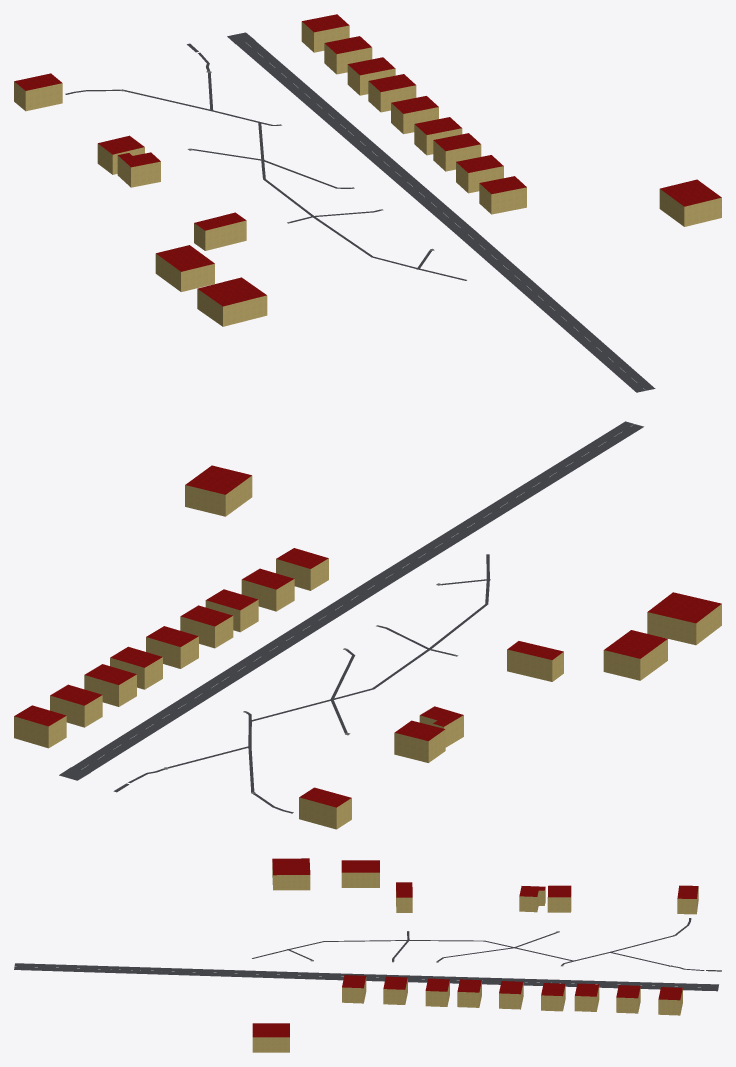
Rendered from district_-1_-1.glb.
3 renders of one model, top to bottom at view 1: azimuth 30°, elevation 25°; view 2: azimuth 150°, elevation 25°; view 3: azimuth 270°, elevation 25°, orthographic. The views are drawn at different scales.
Parts seen in each view (by area): view 1: Road Илекская улица, Building w44036435, Building w44036431, Building w44036452, Building w624465968, Building w625228116, Building w44036539, Building w625228101, Building w625228112, Building w625228107, Building w625228103, Building w1557720955 (+5 smaller); view 2: Road Илекская улица, Building w44036435, Building w44036431, Building w44036452, Building w624465968, Building w625228101, Building w624465980, Building w44036539, Building w625228114, Building w625228103, Building w625228110, Building w625228108 (+5 smaller); view 3: Road Илекская улица, Building w44036435, Building w44036431, Building w44036452, Building w625228105, Building w624465980, Building w625228101, Building w625228110, Building w625228103, Building w625228108, Building w625228107, Building w625228116 (+6 smaller).
Boxes of the visible parts, left/top/right/bottom form: Road Илекская улица: left=236, top=40, right=655, bottom=392; Building w44036435: left=197, top=277, right=267, bottom=326; Building w44036431: left=659, top=179, right=721, bottom=226; Building w44036452: left=155, top=245, right=214, bottom=291; Building w624465968: left=194, top=212, right=246, bottom=250; Building w625228116: left=479, top=176, right=526, bottom=214; Building w44036539: left=14, top=73, right=62, bottom=111; Building w625228101: left=301, top=14, right=349, bottom=52; Building w625228112: left=433, top=133, right=481, bottom=171; Building w625228107: left=368, top=74, right=416, bottom=112; Building w625228103: left=324, top=36, right=372, bottom=74; Building w1557720955: left=117, top=152, right=160, bottom=187; Road Илекская улица: left=72, top=421, right=643, bottom=772; Building w44036435: left=647, top=592, right=721, bottom=645; Building w44036431: left=185, top=465, right=252, bottom=516; Building w44036452: left=603, top=630, right=667, bottom=680; Building w624465968: left=507, top=641, right=563, bottom=681; Building w625228101: left=14, top=705, right=66, bottom=748; Building w624465980: left=394, top=720, right=445, bottom=762; Building w44036539: left=299, top=787, right=351, bottom=829; Building w625228114: left=241, top=568, right=294, bottom=611; Building w625228103: left=50, top=684, right=102, bottom=727; Building w625228110: left=180, top=605, right=233, bottom=648; Building w625228108: left=146, top=626, right=198, bottom=668; Road Илекская улица: left=14, top=963, right=702, bottom=990; Building w44036435: left=272, top=858, right=310, bottom=890; Building w44036431: left=252, top=1023, right=289, bottom=1052; Building w44036452: left=341, top=860, right=379, bottom=887; Building w625228105: left=574, top=983, right=599, bottom=1011; Building w624465980: left=547, top=885, right=571, bottom=912; Building w625228101: left=658, top=987, right=682, bottom=1015; Building w625228110: left=457, top=979, right=481, bottom=1007; Building w625228103: left=616, top=985, right=640, bottom=1013; Building w625228108: left=499, top=981, right=523, bottom=1009; Building w625228107: left=541, top=983, right=565, bottom=1011; Building w625228116: left=342, top=975, right=366, bottom=1003.
Size of the model in its own units: 188 by 7.5 by 315.
5 materials, 5 textured.
